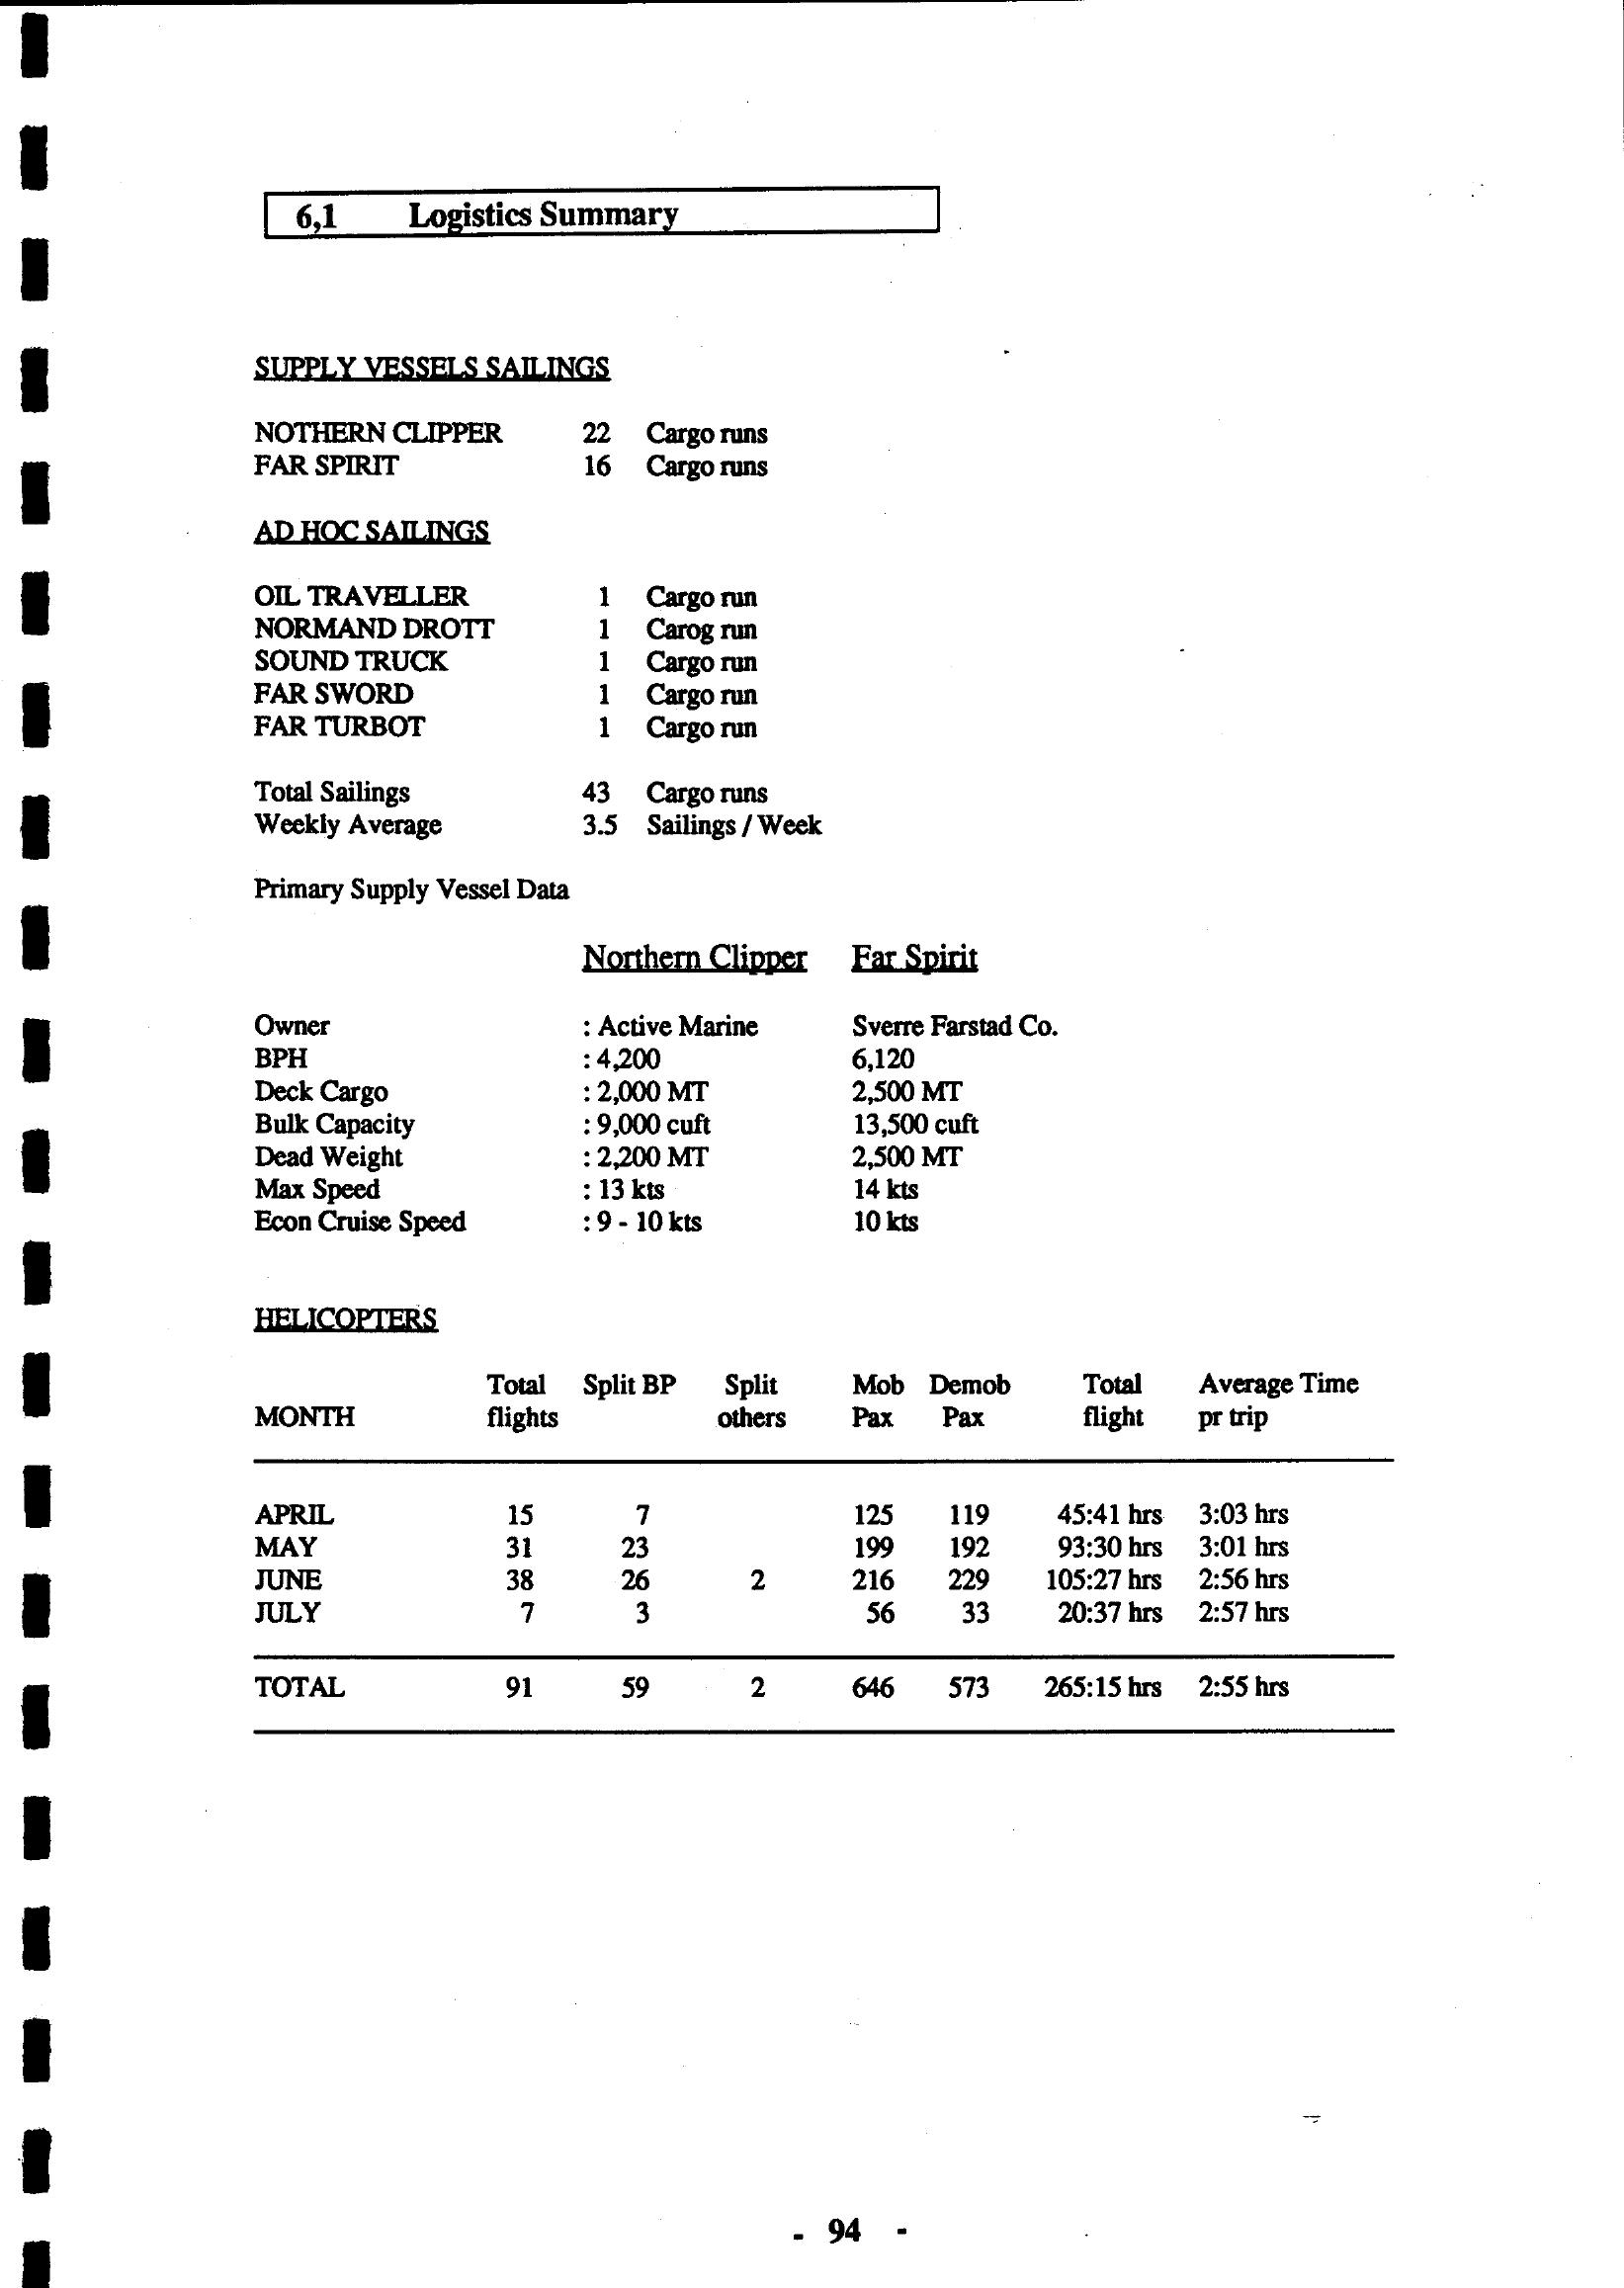table: (188, 1292, 1462, 1794), (211, 933, 1088, 1302)
text: (213, 149, 1107, 919)
